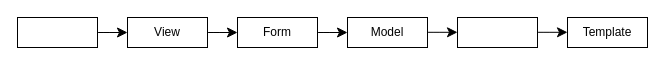
This 665x65 diagram has some shape labels left out. The shapes that lost their labels are listed below. From the top down, each one's centre as x and y in pixels, then its label:
the point at 57,32: User
the point at 497,32: Database
